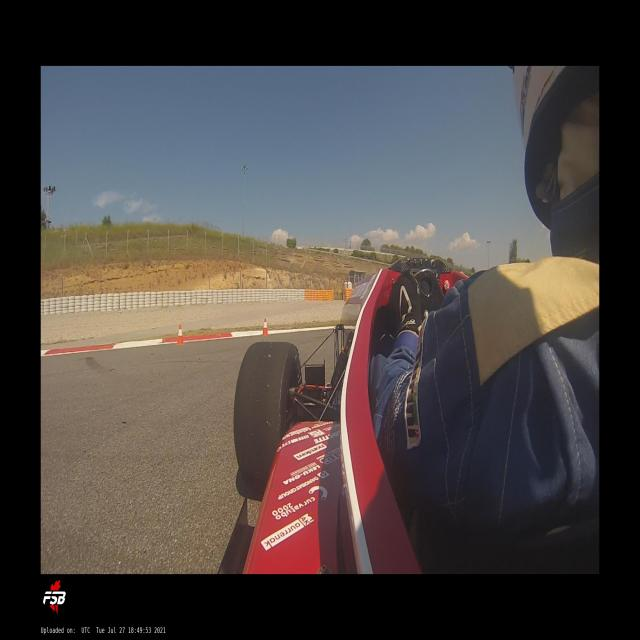orange_cone: (176, 325, 184, 345), (262, 318, 269, 336)
